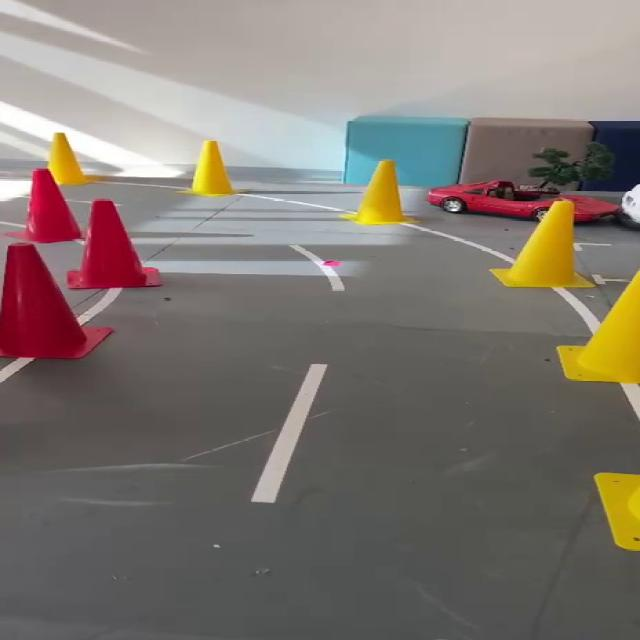Cone-red: (0, 243, 112, 358), (66, 199, 161, 289), (19, 169, 81, 243)
Cones-yellow: (491, 198, 594, 288), (557, 271, 639, 384), (342, 160, 407, 225), (594, 474, 639, 551), (596, 473, 639, 550), (48, 133, 101, 185), (188, 141, 234, 196)
